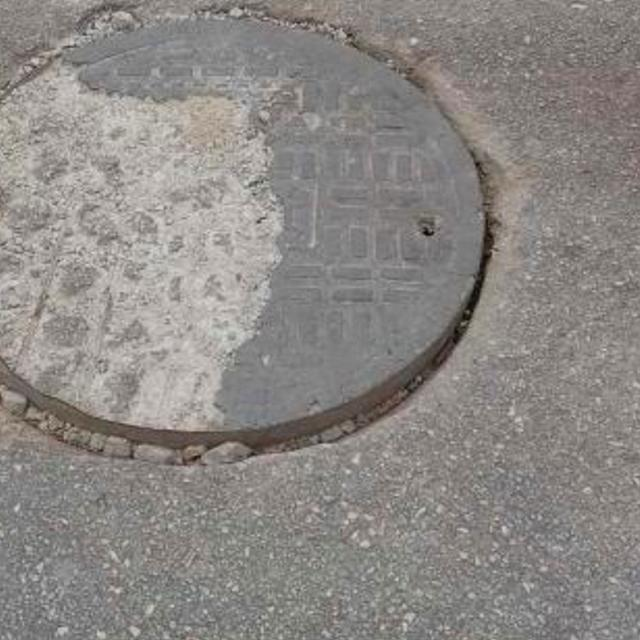circle: (0, 0, 522, 475)
